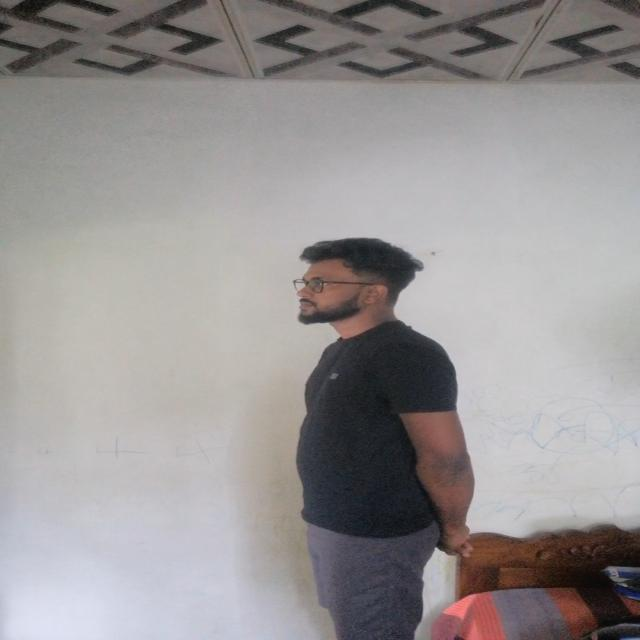Person: (264, 230, 489, 640)
